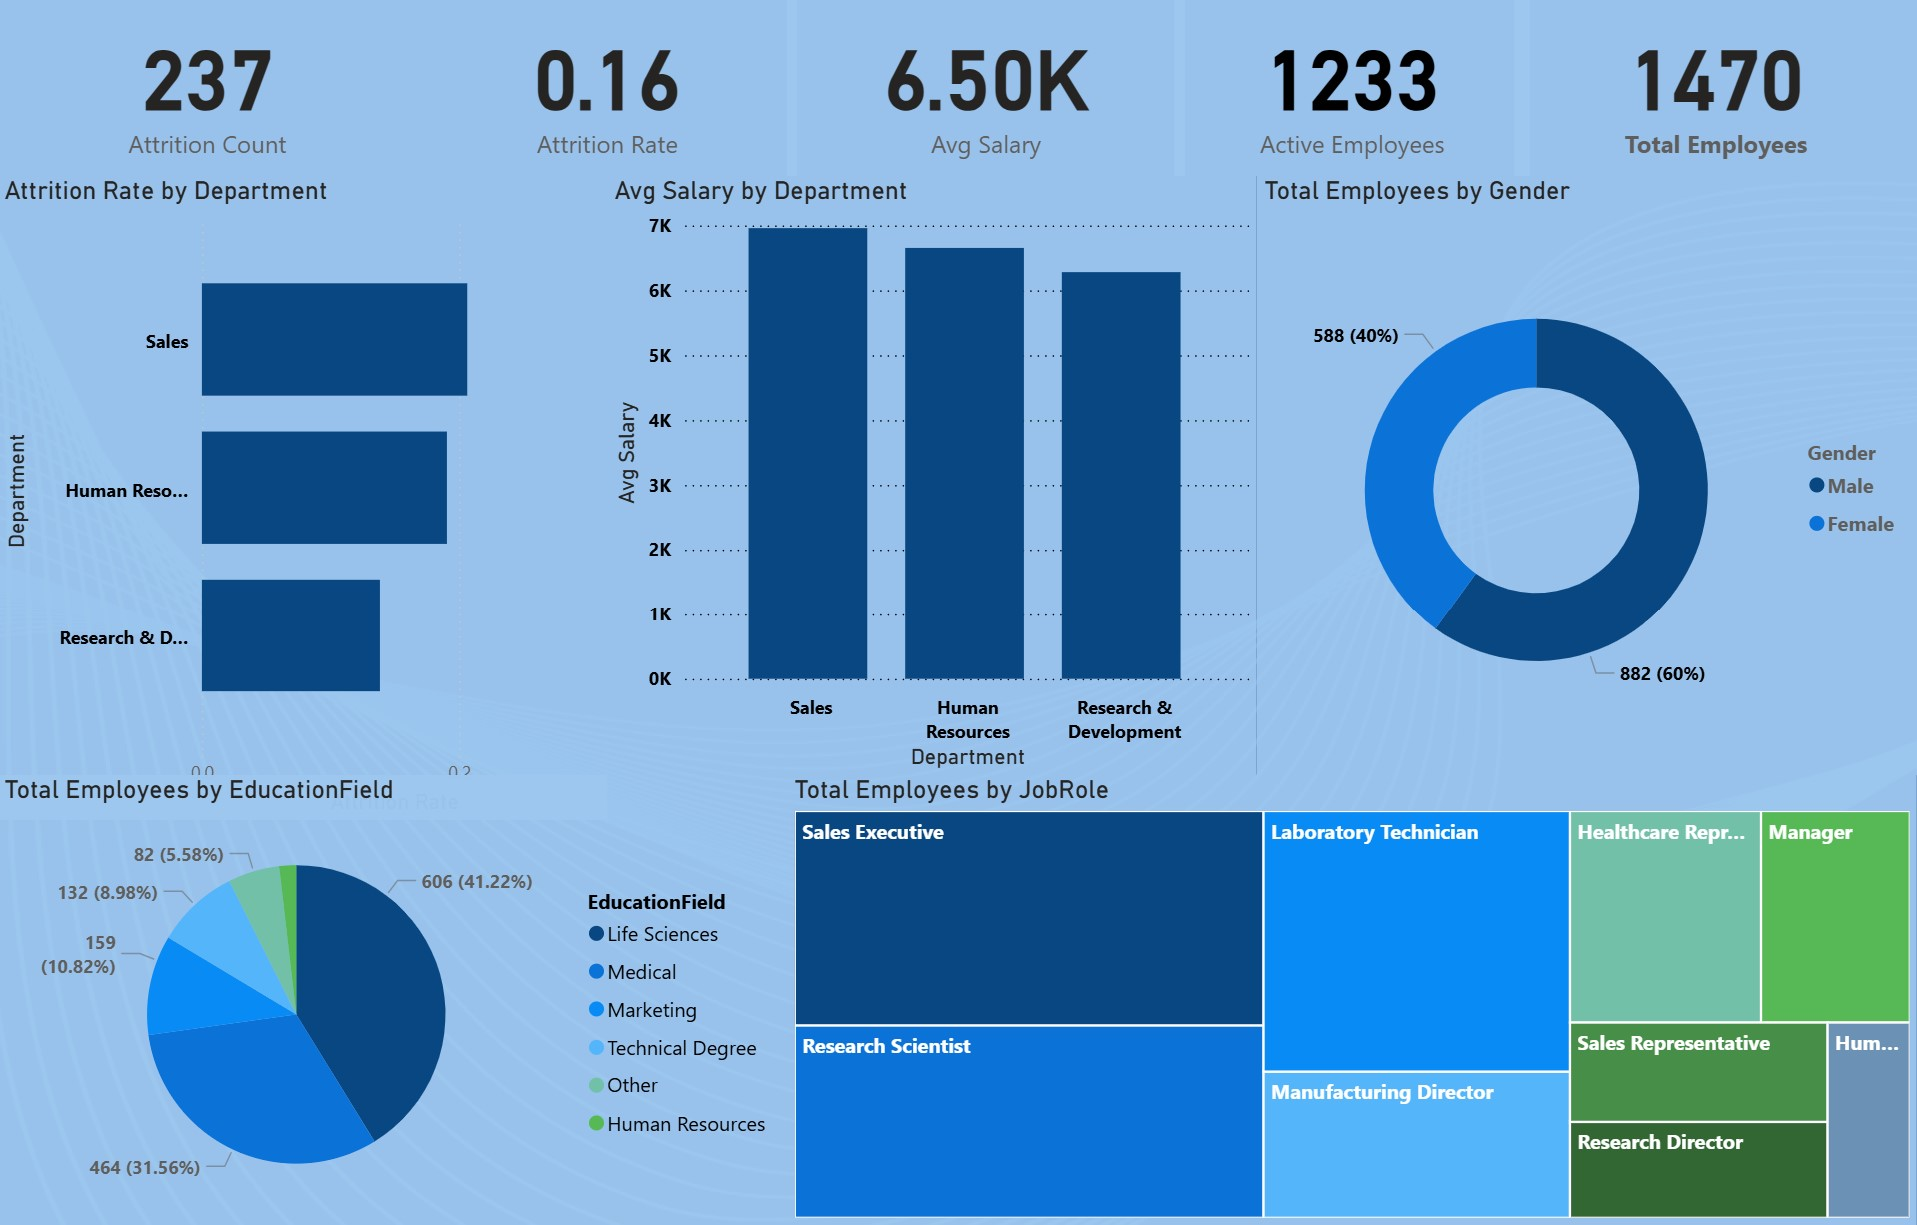

The dashboard page shown, as its layout file describes it:
{"tool":"powerbi","page":{"name":"Executive Overview","canvas":[1280,820],"ordinal":0},"visuals":[{"type":"card","fields":{"Values":["WA_Fn-UseC_-HR-Employee-Attrition.Active Employees"]},"box":[785,98.3,236.7,118.3],"z":0},{"type":"card","fields":{"Values":["WA_Fn-UseC_-HR-Employee-Attrition.Total Employees"]},"box":[1011.7,98.3,268.3,118.3],"z":1000},{"type":"card","fields":{"Values":["WA_Fn-UseC_-HR-Employee-Attrition.Attrition Count"]},"box":[0,98.3,266.7,118.3],"z":2000},{"type":"card","fields":{"Values":["WA_Fn-UseC_-HR-Employee-Attrition.Attrition Rate"]},"box":[266.7,98.3,253.3,120],"z":3000},{"type":"card","fields":{"Values":["WA_Fn-UseC_-HR-Employee-Attrition.Avg Salary"]},"box":[520,98.3,265,118.3],"z":4000},{"type":"clusteredBarChart","fields":{"Y":["WA_Fn-UseC_-HR-Employee-Attrition.Attrition Rate"],"Category":["WA_Fn-UseC_-HR-Employee-Attrition.Department"]},"box":[0,216.7,406.7,333.3],"z":5000},{"type":"donutChart","fields":{"Category":["WA_Fn-UseC_-HR-Employee-Attrition.Gender"],"Y":["WA_Fn-UseC_-HR-Employee-Attrition.Total Employees"]},"box":[840,218.3,440,301.7],"z":6000},{"type":"treemap","fields":{"Group":["WA_Fn-UseC_-HR-Employee-Attrition.JobRole"],"Values":["WA_Fn-UseC_-HR-Employee-Attrition.Total Employees"]},"box":[526.7,520,753.3,300],"z":7000},{"type":"columnChart","fields":{"Y":["WA_Fn-UseC_-HR-Employee-Attrition.Avg Salary"],"Category":["WA_Fn-UseC_-HR-Employee-Attrition.Department"]},"box":[406.7,216.7,433.3,303.3],"z":8000},{"type":"pieChart","fields":{"Category":["WA_Fn-UseC_-HR-Employee-Attrition.EducationField"],"Y":["WA_Fn-UseC_-HR-Employee-Attrition.Total Employees"]},"box":[0,520,526.7,300],"z":9000}]}

Visuals, with their boxes in screenshot pixels (x1, y1, x2, y2), scaled from the page's 1280x820 canvas onto the 1917x1225 screenshot:
card - WA_Fn-UseC_-HR-Employee-Attrition.Active Employees: [1176,147,1530,324]
card - WA_Fn-UseC_-HR-Employee-Attrition.Total Employees: [1515,147,1916,324]
card - WA_Fn-UseC_-HR-Employee-Attrition.Attrition Count: [0,147,399,324]
card - WA_Fn-UseC_-HR-Employee-Attrition.Attrition Rate: [399,147,779,326]
card - WA_Fn-UseC_-HR-Employee-Attrition.Avg Salary: [779,147,1176,324]
clusteredBarChart - WA_Fn-UseC_-HR-Employee-Attrition.Attrition Rate x WA_Fn-UseC_-HR-Employee-Attrition.Department: [0,324,609,822]
donutChart - WA_Fn-UseC_-HR-Employee-Attrition.Gender x WA_Fn-UseC_-HR-Employee-Attrition.Total Employees: [1258,326,1916,777]
treemap - WA_Fn-UseC_-HR-Employee-Attrition.JobRole x WA_Fn-UseC_-HR-Employee-Attrition.Total Employees: [789,777,1916,1224]
columnChart - WA_Fn-UseC_-HR-Employee-Attrition.Avg Salary x WA_Fn-UseC_-HR-Employee-Attrition.Department: [609,324,1258,777]
pieChart - WA_Fn-UseC_-HR-Employee-Attrition.EducationField x WA_Fn-UseC_-HR-Employee-Attrition.Total Employees: [0,777,789,1224]
